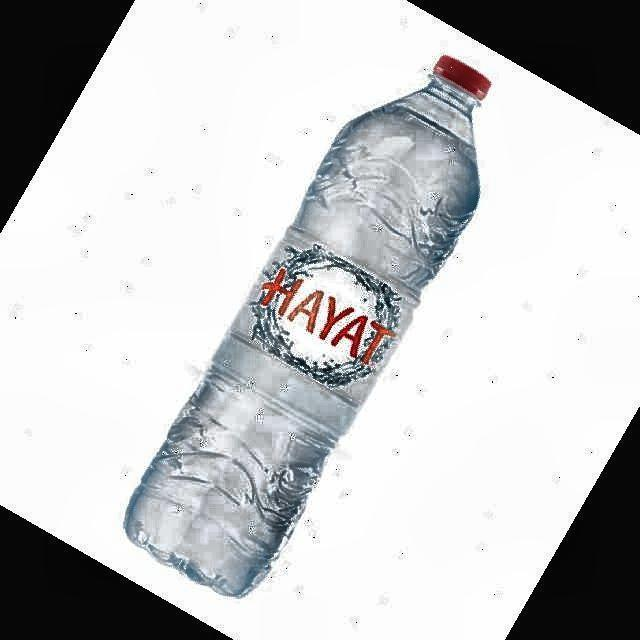plastic: (125, 56, 490, 594)
